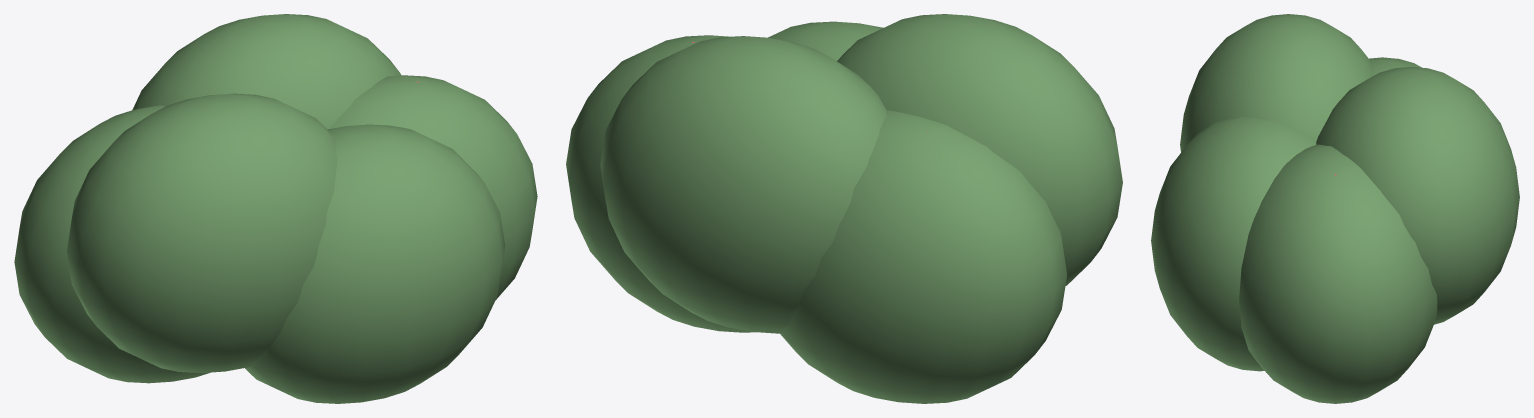
File: berry_bush.glb
3 renders of one model, left to right at view 1: azimuth 30°, elevation 25°; view 2: azimuth 150°, elevation 25°; view 3: azimuth 270°, elevation 25°, orthographic. The views are drawn at different scales.
Parts seen in each view (by area): view 1: berry_bush_root; view 2: berry_bush_root; view 3: berry_bush_root.
Boxes of the visible parts, x1,y1,x2,y2 form: berry_bush_root: (14, 14, 537, 403); berry_bush_root: (566, 14, 1122, 403); berry_bush_root: (1151, 14, 1519, 403).
Size of the model in its own units: 1.78 by 1.1 by 1.34.
